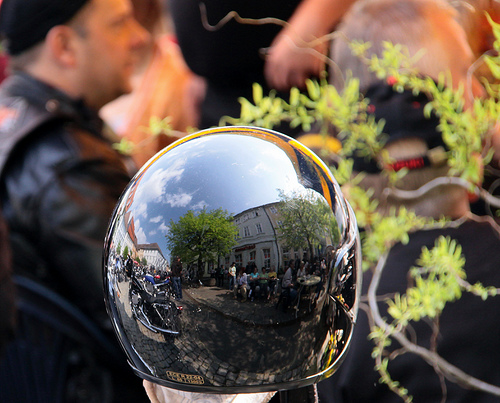helmet: (95, 141, 371, 376)
